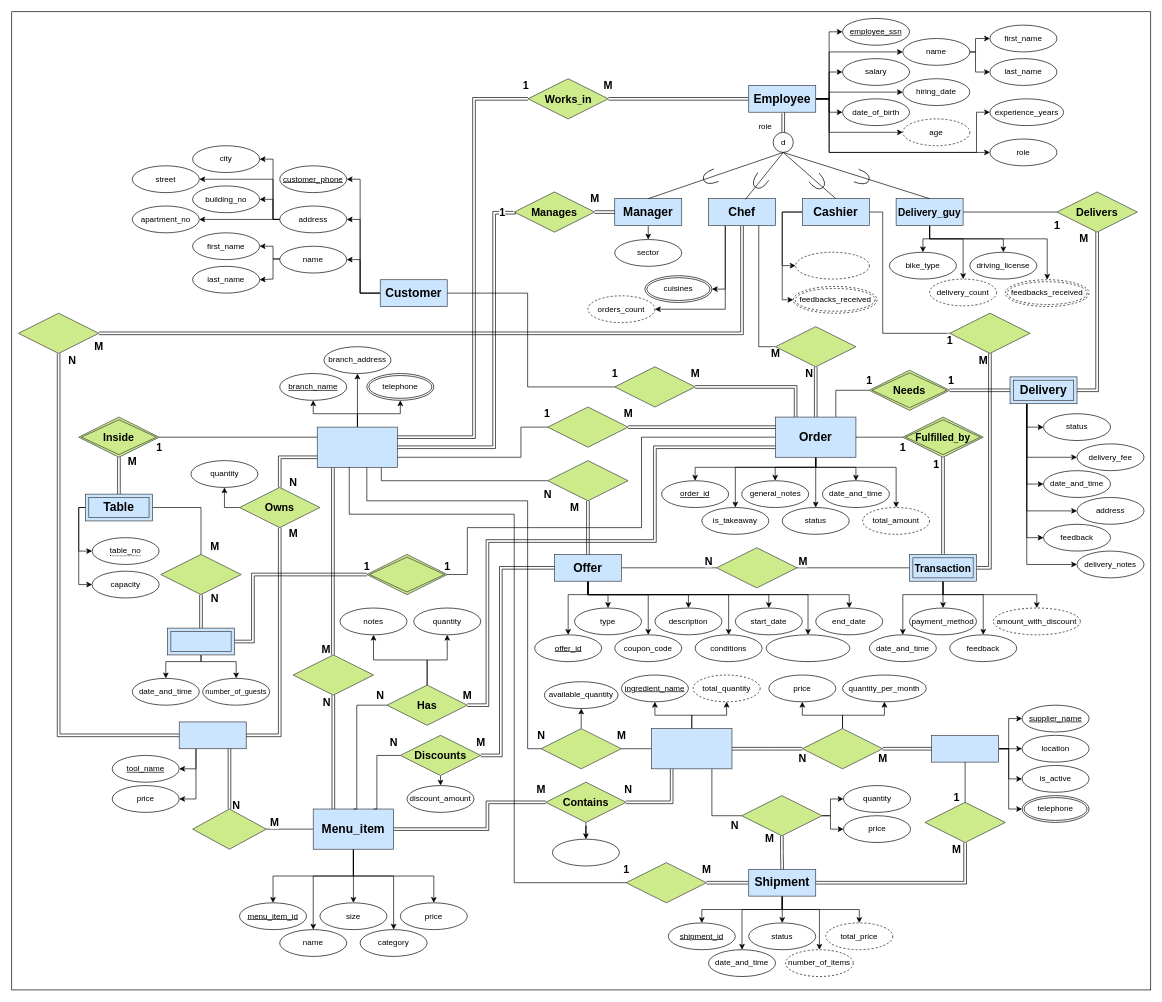
This 1162x1002 diagram has some shape labels left out. The centre of each missing label's shape, as x and y in pixels:
Applies _ on: point (756, 567)
Associated _ with: point (406, 574)
Available _ in: point (333, 674)
Branch: point (357, 446)
Can-use: point (58, 333)
Collects: point (989, 333)
Cooks: point (815, 346)
discount_percentage: point (807, 648)
Ingredient: point (691, 748)
Made _ with: point (229, 828)
Makes: point (587, 480)
Orders: point (654, 386)
Prepares: point (587, 426)
quantity_used: point (585, 852)
Receives: point (666, 882)
Reservation: point (200, 641)
Reserved: point (200, 574)
Sells: point (842, 748)
Ships: point (964, 822)
Stores: point (580, 748)
Supplied _ in: point (781, 815)
Supplier: point (965, 748)
Tool: point (212, 735)
transaction_count: point (832, 265)
